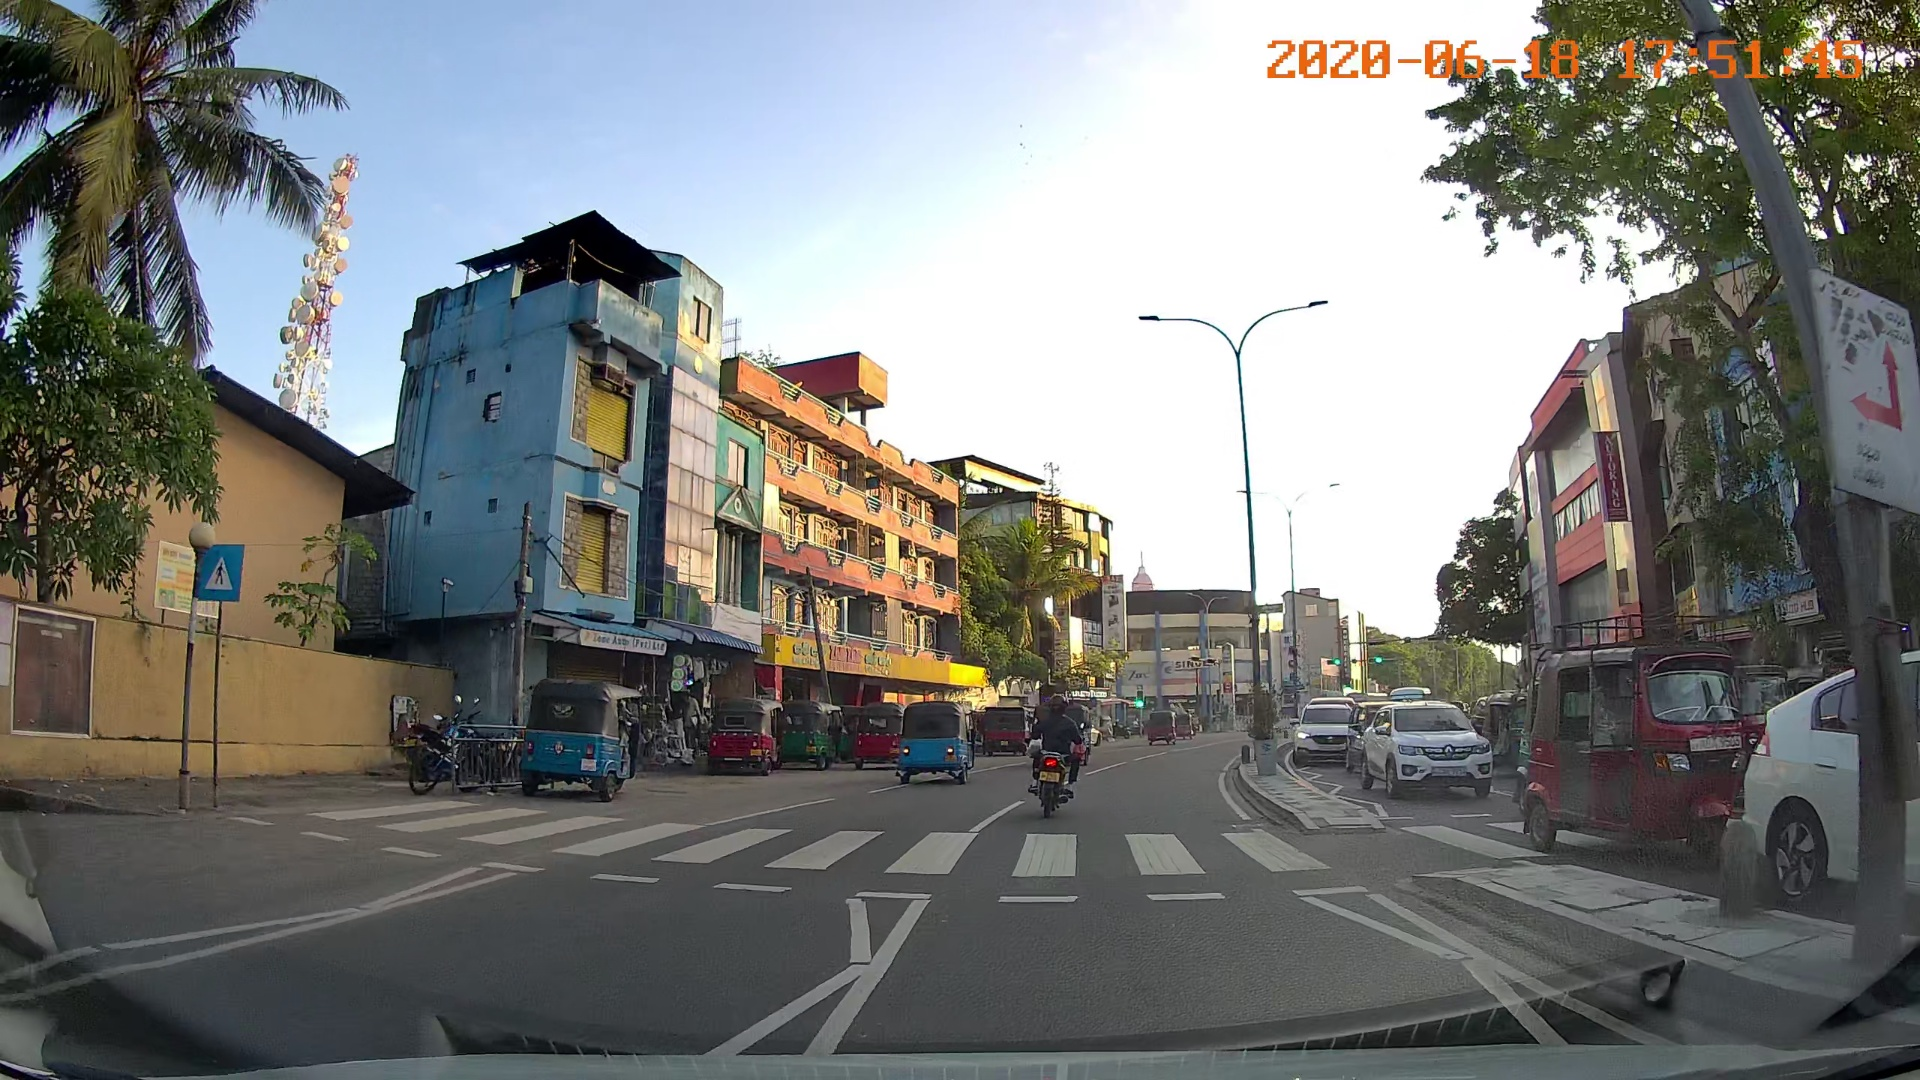crossing: (222, 771, 1329, 903)
